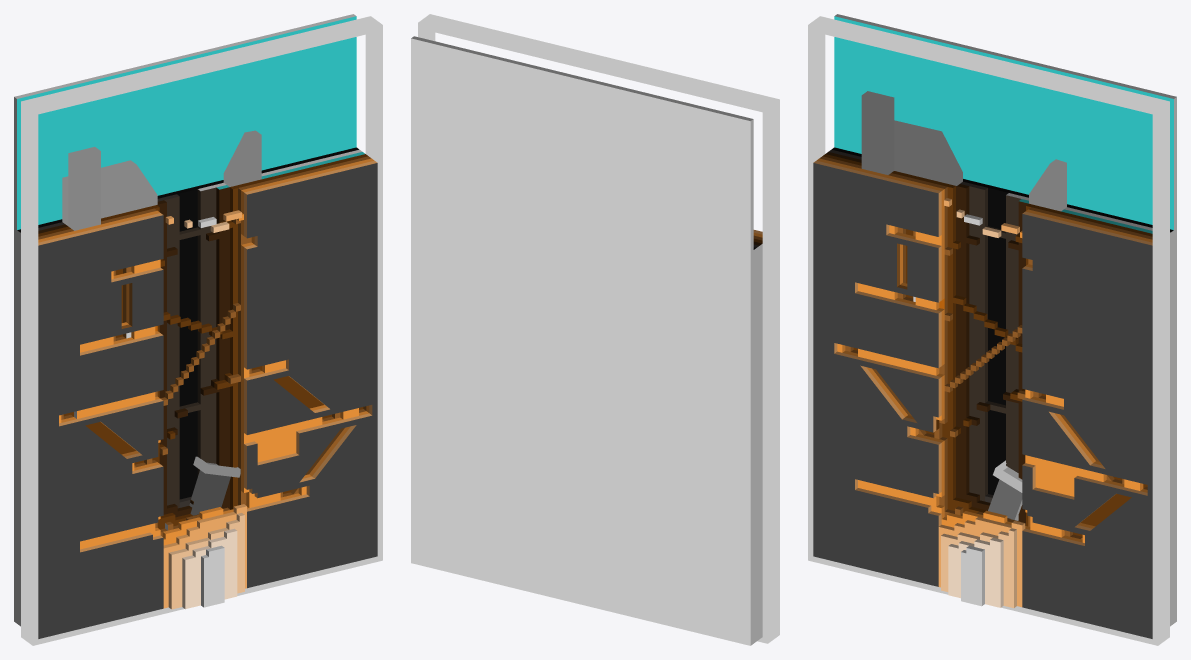
Rendered from PlayUpGrp1.dae.
3 renders of one model, left to right at view 1: azimuth 30°, elevation 25°; view 2: azimuth 150°, elevation 25°; view 3: azimuth 330°, elevation 25°, orthographic.
Parts seen in each view (by area): view 1: mesh0%root%6%, mesh0%root%8%, mesh3%%0%, mesh0%root%13%, mesh0%root%10%, mesh0%root%7%, mesh0%root%9%, mesh0%root%12%, mesh0%root%1%, mesh0%root%15%, mesh0%root%4%, mesh1%%0% (+5 smaller); view 2: mesh0%root%7%, mesh3%%0%; view 3: mesh0%root%6%, mesh0%root%8%, mesh3%%0%, mesh0%root%10%, mesh0%root%13%, mesh0%root%9%, mesh0%root%7%, mesh0%root%1%, mesh0%root%12%, mesh0%root%15%, mesh0%root%4%, mesh1%%0% (+5 smaller).
Part boxes in pixels (left/top/right/bottom): mesh0%root%6%: left=38, top=163, right=377, bottom=638; mesh0%root%8%: left=17, top=16, right=364, bottom=229; mesh3%%0%: left=21, top=16, right=382, bottom=645; mesh0%root%13%: left=164, top=187, right=216, bottom=508; mesh0%root%10%: left=38, top=158, right=373, bottom=549; mesh0%root%7%: left=14, top=14, right=362, bottom=626; mesh0%root%9%: left=38, top=160, right=377, bottom=608; mesh0%root%12%: left=38, top=154, right=368, bottom=529; mesh0%root%1%: left=38, top=187, right=229, bottom=517; mesh0%root%15%: left=17, top=147, right=358, bottom=499; mesh0%root%4%: left=38, top=156, right=371, bottom=536; mesh1%%0%: left=62, top=160, right=157, bottom=225; mesh0%root%7%: left=411, top=36, right=762, bottom=645; mesh3%%0%: left=418, top=14, right=779, bottom=643; mesh0%root%6%: left=813, top=163, right=1152, bottom=638; mesh0%root%8%: left=834, top=16, right=1173, bottom=233; mesh3%%0%: left=808, top=16, right=1169, bottom=645; mesh0%root%10%: left=817, top=158, right=1152, bottom=542; mesh0%root%13%: left=969, top=186, right=1020, bottom=501; mesh0%root%9%: left=813, top=160, right=1152, bottom=607; mesh0%root%7%: left=834, top=14, right=1176, bottom=626; mesh0%root%1%: left=826, top=152, right=1028, bottom=525; mesh0%root%12%: left=822, top=154, right=1152, bottom=536; mesh0%root%15%: left=832, top=147, right=1173, bottom=495; mesh0%root%4%: left=819, top=156, right=1152, bottom=539; mesh1%%0%: left=894, top=120, right=962, bottom=185.
Size of the model in its own units: 4288 by 6272 by 704.
